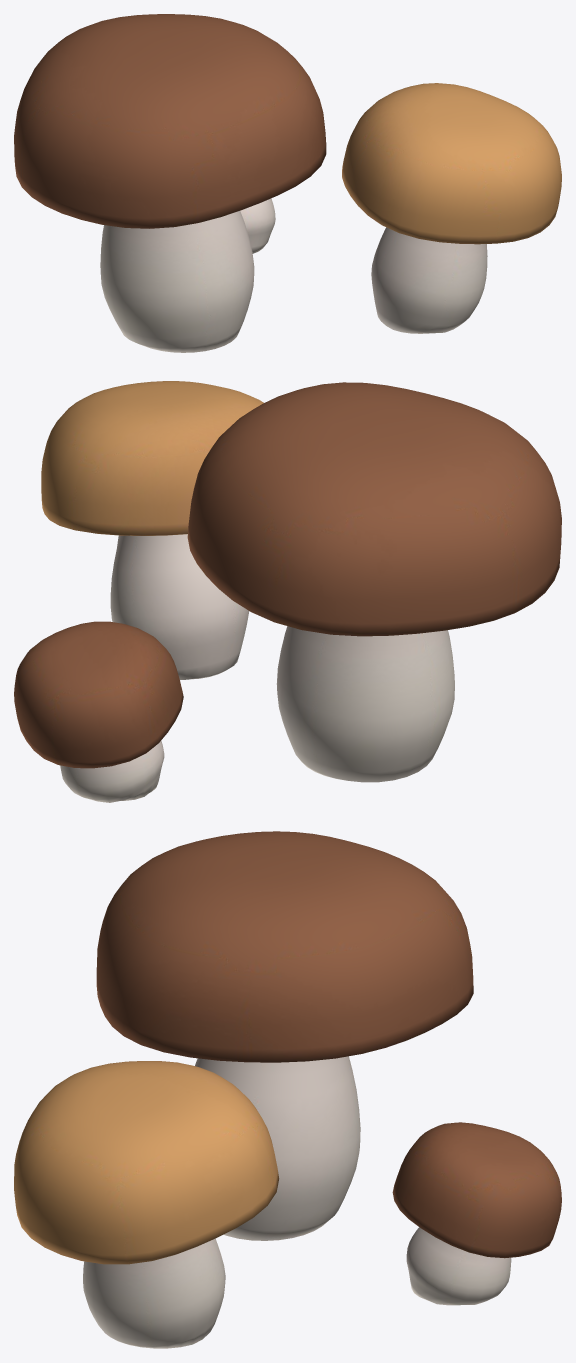
The model's file is forest-mushroom.glb.
3 views of the same model, one above another, from view 1: azimuth 30°, elevation 25°; view 2: azimuth 150°, elevation 25°; view 3: azimuth 270°, elevation 25° (orthographic). The views are drawn at different scales.
Visible parts, largest first — view 1: forest-mushroom.001; view 2: forest-mushroom.001; view 3: forest-mushroom.001.
Boxes of the visible parts, box(x1,y1,x2,y2) form: forest-mushroom.001: box(14, 14, 561, 352); forest-mushroom.001: box(14, 381, 561, 802); forest-mushroom.001: box(14, 831, 561, 1348).
Size of the model in its own units: 1.69 by 1 by 1.45.
1 material, 1 textured.
